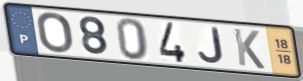0: (114, 17, 150, 62)
4: (159, 21, 188, 64)
8: (78, 15, 111, 57)
J: (197, 26, 226, 66)
K: (231, 27, 267, 71)
O: (35, 11, 75, 55)
